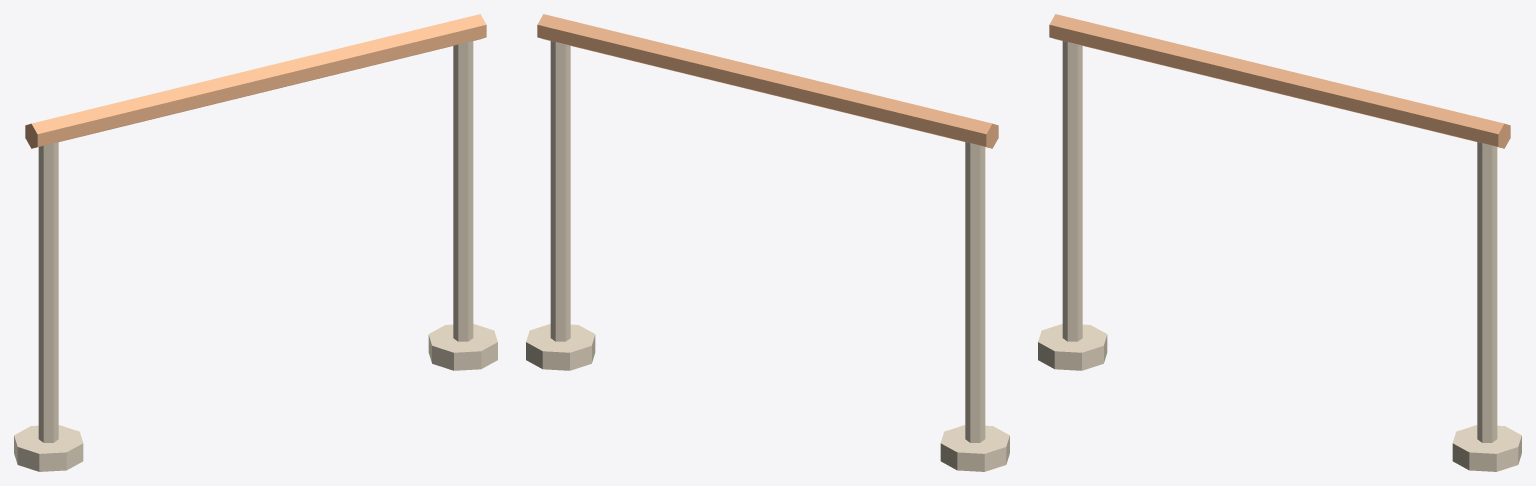
The picture shows the model from 3 angles, left to right: view 1: azimuth 30°, elevation 25°; view 2: azimuth 150°, elevation 25°; view 3: azimuth 330°, elevation 25°; orthographic projection.
Parts seen in each view (by area): view 1: Handrail, Post.001, Post, Foot.001, Foot; view 2: Handrail, Post.001, Post, Foot.001, Foot; view 3: Handrail, Post, Post.001, Foot, Foot.001.
Boxes of the visible parts, x1,y1,x2,y2 form: Handrail: (25,14,486,148); Post.001: (453,41,473,341); Post: (38,142,58,442); Foot.001: (428,324,497,370); Foot: (14,425,83,471); Handrail: (537,14,998,148); Post.001: (550,41,570,341); Post: (965,142,985,442); Foot.001: (526,324,595,370); Foot: (940,425,1009,471); Handrail: (1049,14,1510,148); Post: (1062,41,1082,341); Post.001: (1477,142,1497,442); Foot: (1038,324,1107,370); Foot.001: (1452,425,1521,471).
Size of the model in its own units: 1.38 by 0.935 by 0.18.
Materials: 1 (1 with a texture image).
